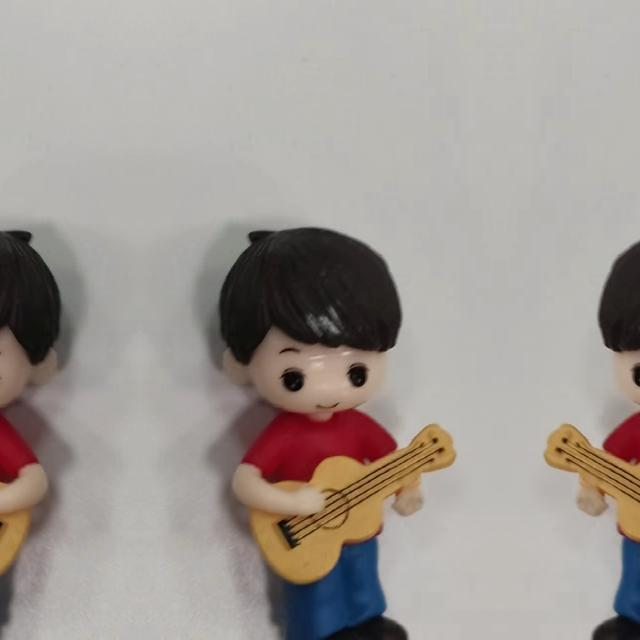man cloth: (246, 413, 399, 539), (600, 413, 640, 539), (0, 413, 33, 539)
man head: (216, 223, 406, 411), (0, 223, 64, 411), (594, 223, 640, 411)
trousers: (269, 539, 410, 640), (589, 539, 640, 640), (0, 539, 10, 640)
